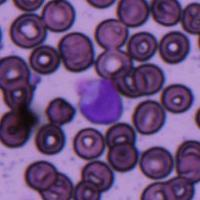M: (76, 76, 123, 124)
